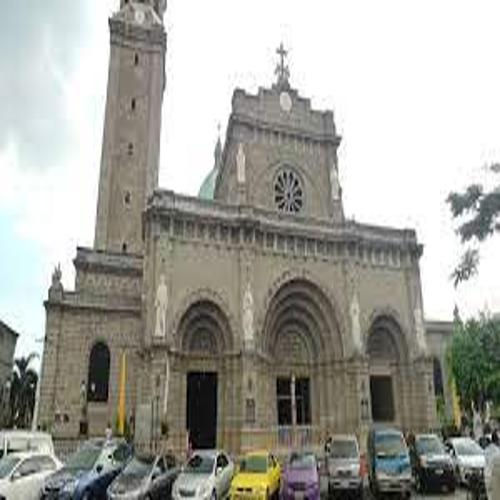Manila Cathedral Church: (36, 2, 446, 432)
